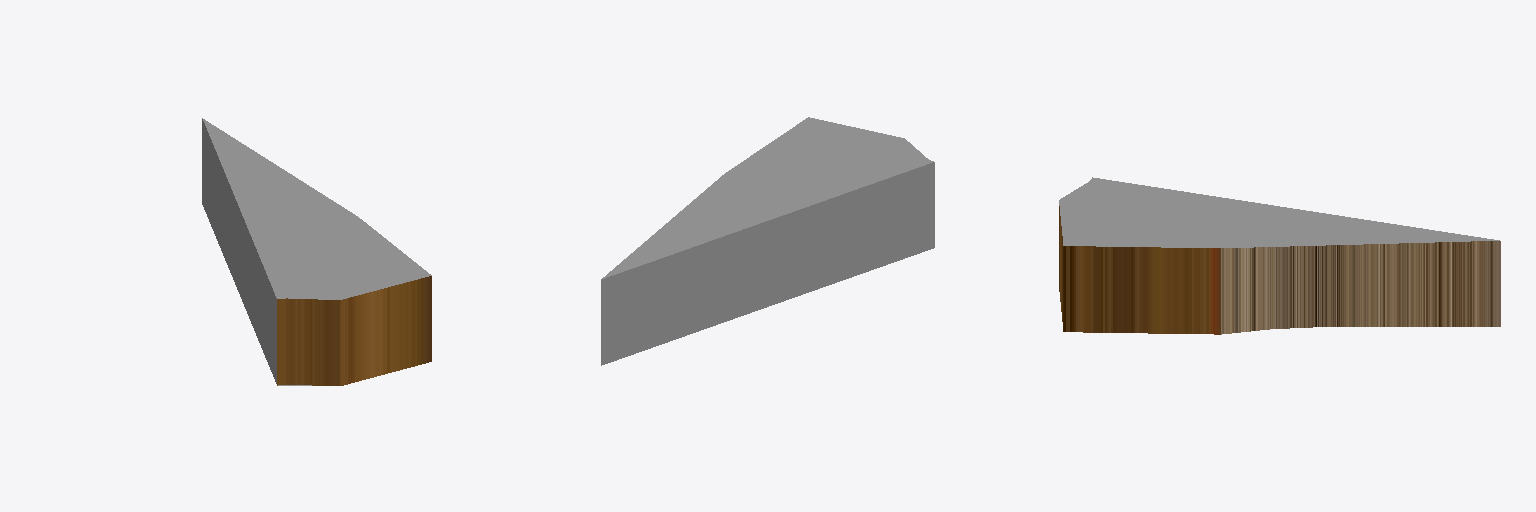
3 views of the same model, side by side, from view 1: azimuth 30°, elevation 25°; view 2: azimuth 150°, elevation 25°; view 3: azimuth 270°, elevation 25° (orthographic).
Parts seen in each view (by area): view 1: Plane.012_Plane.013; view 2: Plane.012_Plane.013; view 3: Plane.012_Plane.013.
Boxes of the visible parts, x1=… form: Plane.012_Plane.013: x1=202, y1=118, x2=431, y2=385; Plane.012_Plane.013: x1=601, y1=117, x2=934, y2=365; Plane.012_Plane.013: x1=1059, y1=177, x2=1500, y2=334.
Bounding box in the file's own units: 330 × 187 × 869.
Materials: 3 (2 with a texture image).